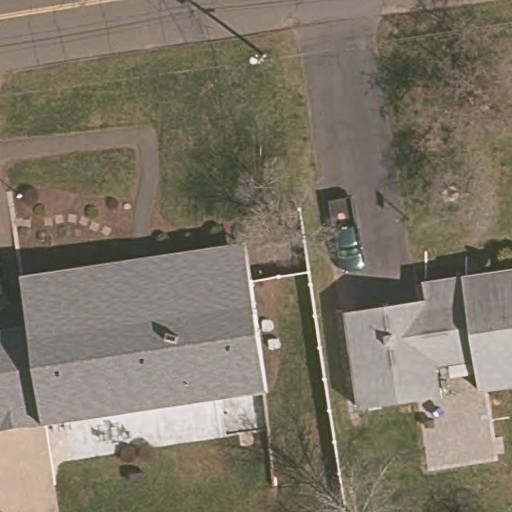DT: (248, 51, 271, 69)
